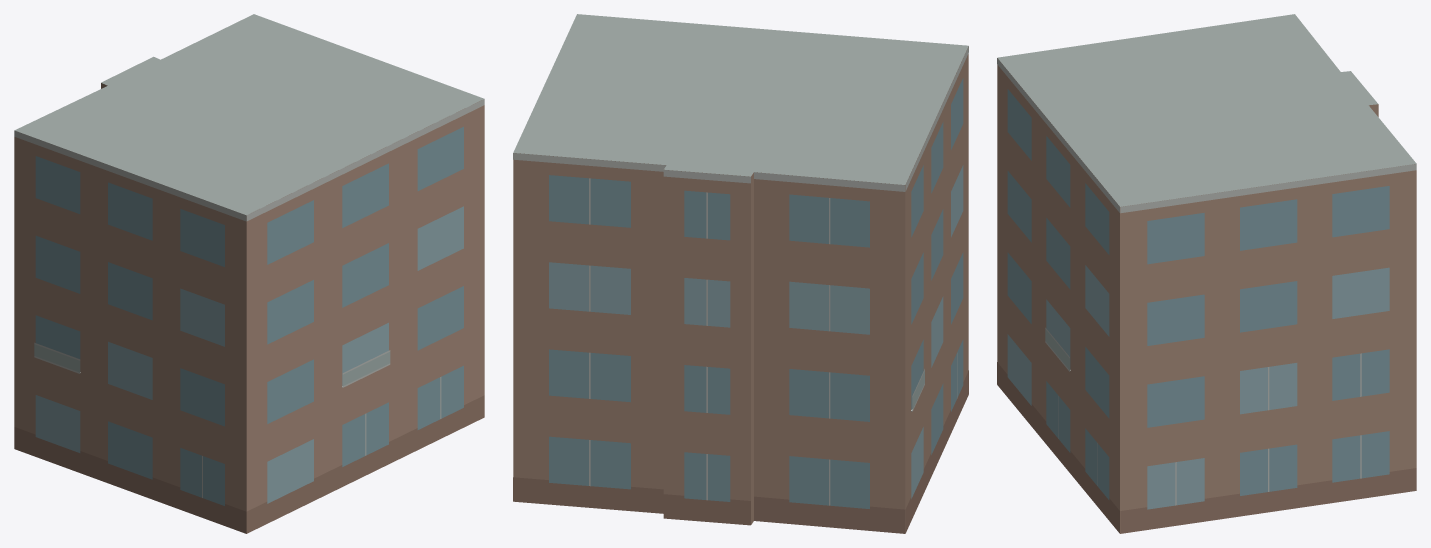
File: survey-upis-32749608.glb
The picture shows the model from 3 angles, left to right: view 1: azimuth 30°, elevation 25°; view 2: azimuth 150°, elevation 25°; view 3: azimuth 270°, elevation 25°; orthographic projection. The views are drawn at different scales.
Visible parts, largest first — view 1: survey-upis-32749608.tmp; view 2: survey-upis-32749608.tmp; view 3: survey-upis-32749608.tmp.
Boxes of the visible parts, box(x1,y1,x2,y2) form: survey-upis-32749608.tmp: box(14, 14, 484, 533); survey-upis-32749608.tmp: box(513, 14, 968, 533); survey-upis-32749608.tmp: box(997, 14, 1416, 533).
Bounding box in the file's own units: 15.66 × 12.37 × 14.4.
